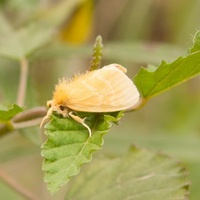insect: (51, 64, 139, 112)
